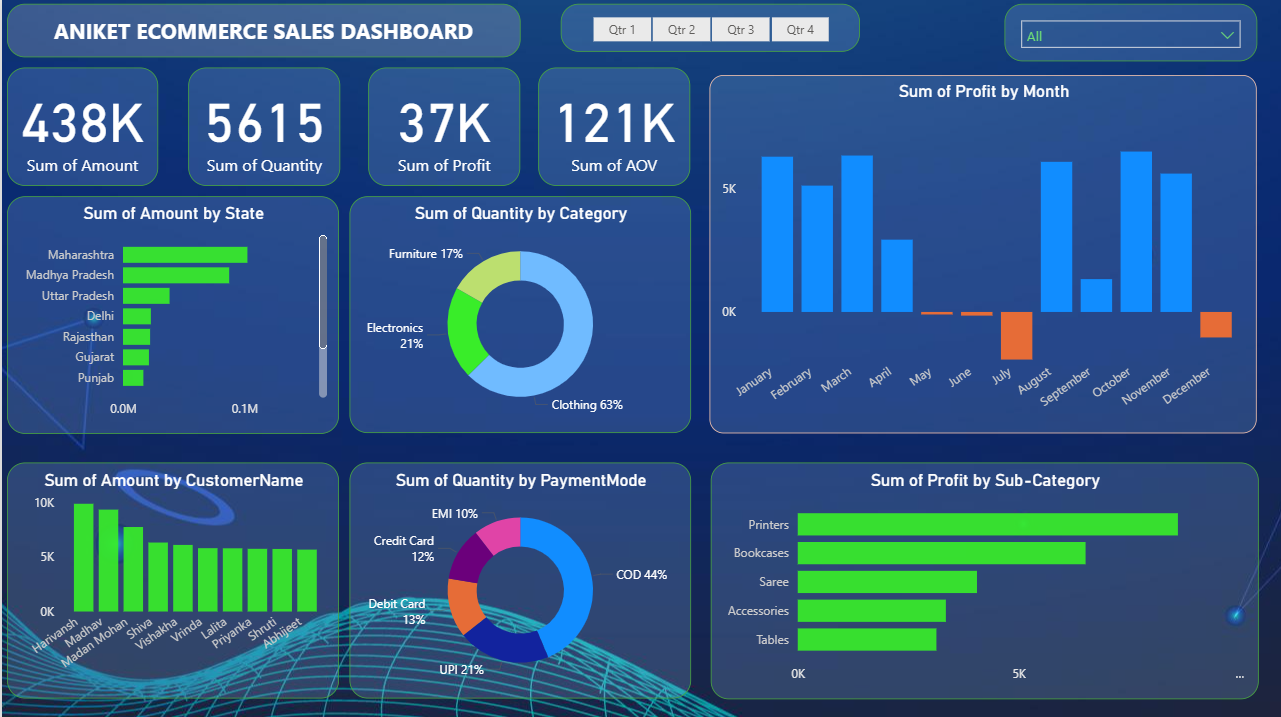

What the dashboard file says about the page in this screenshot:
{"tool":"powerbi","page":{"name":"Page 1","canvas":[1280,720],"ordinal":0},"visuals":[{"type":"textbox","box":[5.4,4,513.7,53.8],"z":0},{"type":"columnChart","fields":{"Category":["Orders.Order Date.Variation.Date Hierarchy.Month"],"Y":["Sum(Details.Profit)"]},"box":[708.1,75.5,547.5,358.1],"z":1000},{"type":"barChart","fields":{"Category":["Details.Sub-Category"],"Y":["Sum(Details.Profit)"]},"box":[708.2,462.1,547.7,236.5],"z":2000},{"type":"donutChart","fields":{"Category":["Details.Category"],"Y":["Sum(Details.Quantity)"]},"box":[347.5,196.6,341.4,236.5],"z":3000},{"type":"donutChart","fields":{"Category":["Details.PaymentMode"],"Y":["Sum(Details.Quantity)"]},"box":[347.2,462.4,341.7,236],"z":4000},{"type":"card","fields":{"Values":["Sum(Details.Amount)"]},"box":[5.5,67.2,150.9,118],"z":5000},{"type":"card","fields":{"Values":["Sum(Details.Quantity)"]},"box":[185.8,67.6,152,118.2],"z":6000},{"type":"card","fields":{"Values":["Sum(Details.Profit)"]},"box":[366.8,67.6,152,118.2],"z":7000},{"type":"card","fields":{"Values":["Sum(Details.AOV)"]},"box":[536.9,67.6,152,118.2],"z":8000},{"type":"barChart","fields":{"Category":["Orders.State"],"Y":["Sum(Details.Amount)"]},"box":[5.5,196.2,332.1,237.4],"z":9000},{"type":"columnChart","fields":{"Category":["Orders.CustomerName"],"Y":["Sum(Details.Amount)"]},"box":[5.5,462.4,332.1,236],"z":10000},{"type":"slicer","fields":{"Values":["Orders.Order Date.Variation.Date Hierarchy.Quarter"]},"box":[558.5,4.1,299.1,48],"z":11000},{"type":"slicer","fields":{"Values":["Orders.State"]},"box":[1003.1,4.1,252.5,57.6],"z":12000}]}

Visuals, with their boxes in screenshot pixels (x1, y1, x2, y2), scaled from the page's 1280x720 canvas onto the 1281x717 screenshot:
textbox: detection(5, 4, 520, 58)
columnChart - Orders.Order Date.Variation.Date Hierarchy.Month x Sum(Details.Profit): detection(709, 75, 1257, 432)
barChart - Details.Sub-Category x Sum(Details.Profit): detection(709, 460, 1257, 696)
donutChart - Details.Category x Sum(Details.Quantity): detection(348, 196, 689, 431)
donutChart - Details.PaymentMode x Sum(Details.Quantity): detection(347, 460, 689, 695)
card - Sum(Details.Amount): detection(6, 67, 157, 184)
card - Sum(Details.Quantity): detection(186, 67, 338, 185)
card - Sum(Details.Profit): detection(367, 67, 519, 185)
card - Sum(Details.AOV): detection(537, 67, 689, 185)
barChart - Orders.State x Sum(Details.Amount): detection(6, 195, 338, 432)
columnChart - Orders.CustomerName x Sum(Details.Amount): detection(6, 460, 338, 695)
slicer - Orders.Order Date.Variation.Date Hierarchy.Quarter: detection(559, 4, 858, 52)
slicer - Orders.State: detection(1004, 4, 1257, 61)
